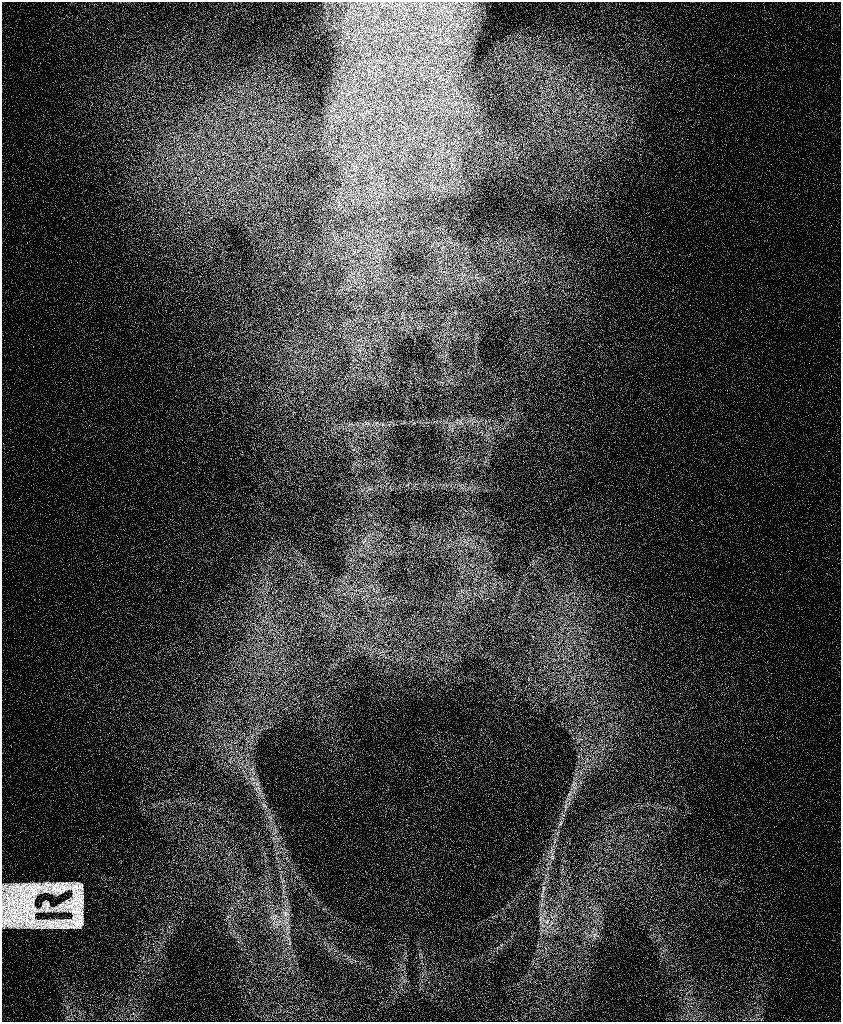lumbar scoliosis: (299, 98, 515, 630)
